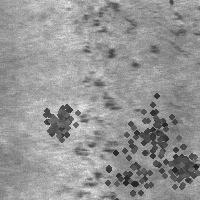rolled-in_scale: (71, 3, 129, 197), (107, 91, 193, 177), (90, 133, 170, 200), (121, 4, 192, 72), (35, 95, 83, 143), (155, 139, 200, 189)
